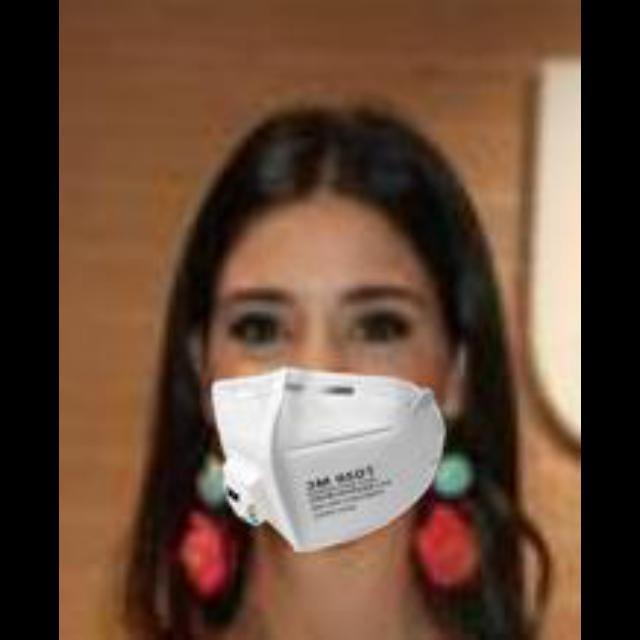suspicion: (146, 94, 472, 534)
